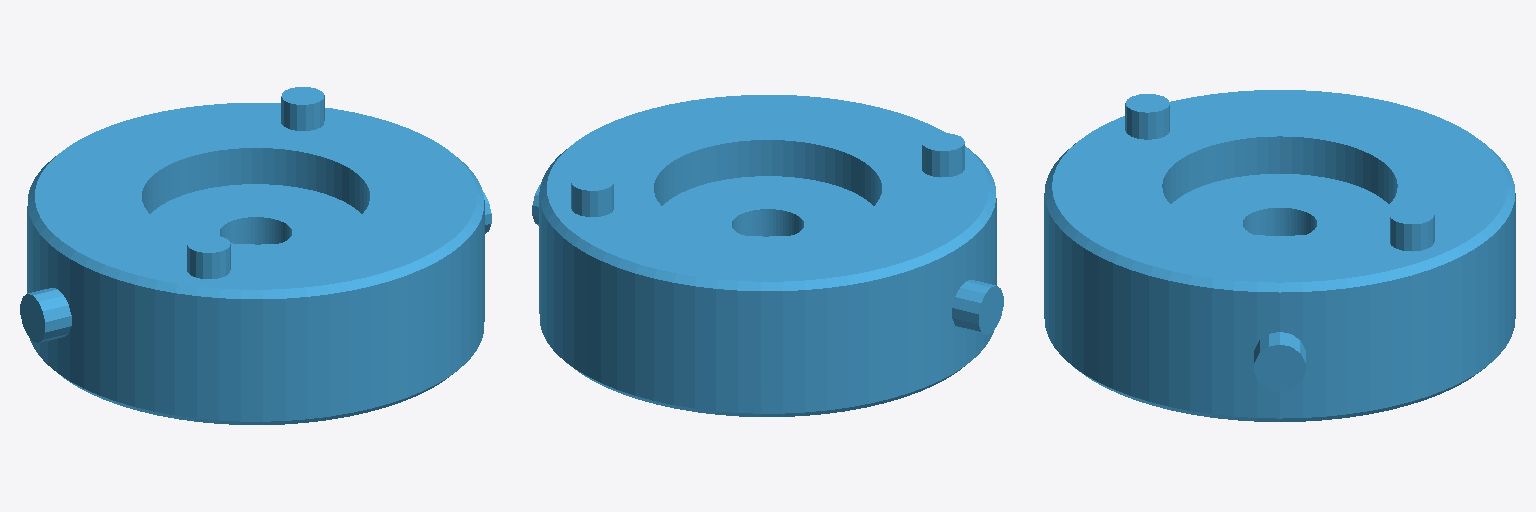
The robot description file, URDF, robot "tool_changer_a1_tool":
<?xml version="1.0"?>
<!--
  Tool Changer A1 — ツール側: 空圧ロボットツールチェンジャの自作アセット (CC0-1.0)。
  tool-changer-a1-master.urdf と対で使う。

  ============================================================================
  参照実機: **SCHUNK SWS-011** の アダプタ側 **SWA-011-000-000**
    https://schunk.com/us/en/automation-technology/tool-changer/sws/swa-011-000-000/p/000000000000302317
  ============================================================================

  **これは SWA-011 の複製ではない。** 参照した値と意図的に変えた点の全体像は
  マスタ側 URDF (tool-changer-a1-master.urdf) のヘッダにまとめてある。この板に
  固有の部分だけ再掲する:

  参照実機から採った値: 板厚 **20.6 mm** / 質量 0.09 kg / エア通し 6 ポート
  意図的に変えた点:
    - 外径 ø50 -> **ø63**、上面を **ISO 9409-1-50-4-M6** に振り替え (カタログ内の
      既存モデルと直結するため)
    - 質量 0.09 -> **0.11 kg** (外径拡大分の割り増し)

  この板の役割は **インタフェースの中継**:
    ロボットフランジ -> [master.mount .. master.coupling] -> [tool.mount .. tool.flange]
    -> エンドエフェクタ
  下面 (mount) はマスタのカムボスを受け、上面 (flange) は**ロボットフランジと同じ
  ISO 9409-1-50-4-M6 を提示する**。つまりカタログ収録済みの 2F-85 / gripper-coupling を
  ロボットに直付けするのと同じ作法でそのまま積める。

  座標系 (botrail カタログ規約): Z-up / メートル。root リンク mount = マスタとの
  結合面 (+Z がツール側)。

  visual: tools/generate_meshes.py が生成する ../meshes/tool.stl (手続き的著作)
  collision: URDF プリミティブのみ (板 + 側面マニホールド)。ダウエルピンは
          次段の工具側の穴に入る消耗形状なので collision に出さない
-->
<robot name="tool_changer_a1_tool">

  <link name="mount"/>

  <link name="body">
    <visual>
      <geometry>
        <mesh filename="../meshes/tool.stl"/>
      </geometry>
    </visual>

    <collision><!-- main plate, ISO 9409-1 OD ø63 x 20.6 (SWA-011 の板厚) -->
      <origin xyz="0 0 0.0103"/>
      <geometry><cylinder radius="0.0315" length="0.0206"/></geometry>
    </collision>
    <collision><!-- air manifold boss +x -->
      <origin xyz="0.0335 0 0.0103" rpy="0 1.5708 0"/>
      <geometry><cylinder radius="0.0035" length="0.007"/></geometry>
    </collision>
    <collision><!-- air manifold boss -x -->
      <origin xyz="-0.0335 0 0.0103" rpy="0 1.5708 0"/>
      <geometry><cylinder radius="0.0035" length="0.007"/></geometry>
    </collision>

    <!-- 質量 0.11 kg (SWA-011 の 0.09 kg + 外径拡大分)。慣性は ø63 x 20.6 の中実円柱近似 -->
    <inertial>
      <origin xyz="0 0 0.0103"/>
      <mass value="0.11"/>
      <inertia ixx="3.118e-5" ixy="0.0" ixz="0.0" iyy="3.118e-5" iyz="0.0" izz="5.457e-5"/>
    </inertial>
  </link>

  <!-- 次段へ提示する ISO 9409-1-50-4-M6 の取付面 -->
  <link name="flange"/>

  <joint name="body_joint" type="fixed">
    <parent link="mount"/>
    <child link="body"/>
  </joint>

  <joint name="flange_joint" type="fixed">
    <origin xyz="0 0 0.0206"/>
    <parent link="body"/>
    <child link="flange"/>
  </joint>

</robot>

--- What the picture shows (computed from the rendered views, not written in the file) ---
Views: 3 orthographic renders of the robot side by side, from view 1: azimuth 30°, elevation 25°; view 2: azimuth 150°, elevation 25°; view 3: azimuth 270°, elevation 25°.
Robot: tool_changer_a1_tool — 3 links, 2 joints (2 fixed); root link mount; default pose: every joint at zero.
Links seen in each view (by area): view 1: body; view 2: body; view 3: body.
Boxes of the visible links, box(x1,y1,x2,y2) form: body: box(20, 87, 491, 424); body: box(532, 95, 1003, 416); body: box(1044, 90, 1515, 421).
Size in the robot's own frame: 0.071 by 0.063 by 0.0256 metres.
1 mesh visuals loaded from 1 distinct referenced files (1 binary STL).
